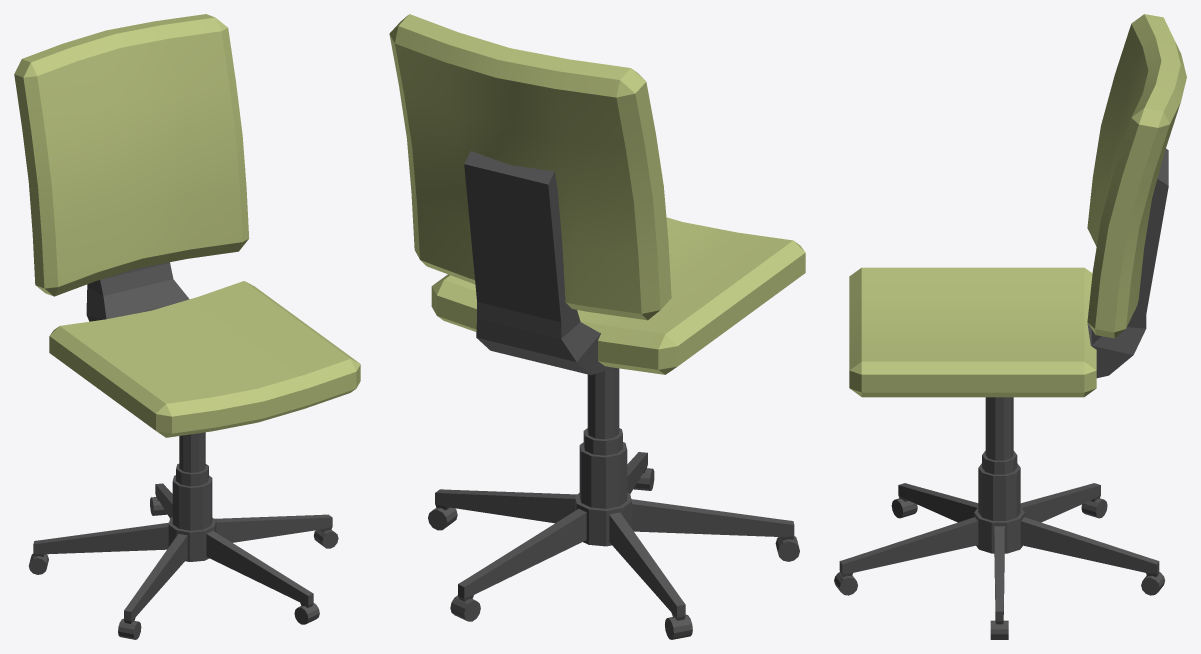
The model's file is OfficeChair_01.fbx.
3 renders of one model, left to right at view 1: azimuth 30°, elevation 25°; view 2: azimuth 150°, elevation 25°; view 3: azimuth 270°, elevation 25°, orthographic. The views are drawn at different scales.
Parts seen in each view (by area): view 1: pasted__pCube2, pCube2, polySurface10, pCube3, pCylinder18; view 2: pasted__pCube2, polySurface10, pCube3, pCube2, pCylinder18; view 3: pCube2, pasted__pCube2, polySurface10, pCube3, pCylinder18.
Part boxes in pixels (x1,y1,x2,y2): pasted__pCube2: (14,14,249,296); pCube2: (49,281,360,437); polySurface10: (33,432,332,623); pCube3: (86,262,189,321); pCylinder18: (28,497,338,639); pasted__pCube2: (389,14,671,320); polySurface10: (435,367,794,620); pCube3: (464,151,613,374); pCube2: (431,217,805,374); pCylinder18: (428,468,799,639); pCube2: (849,267,1096,397); pasted__pCube2: (1087,14,1186,338); polySurface10: (839,397,1159,624); pCube3: (1087,148,1168,378); pCylinder18: (834,498,1165,639).
Size of the model in its own units: 68.66 by 123 by 76.93.
Materials: 1 (1 with a texture image).
